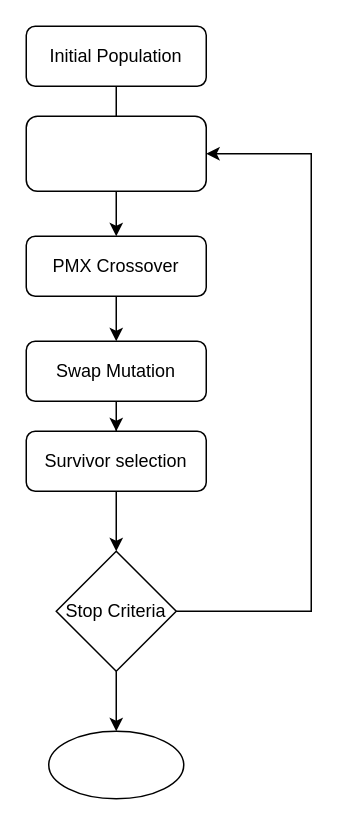
Some shapes in this 350 by 825 pixel diagram are drawn without their labels. Each missing label, with the centre of its shape:
Roulette wheel selection: (115,153)
STOP: (115,764)
